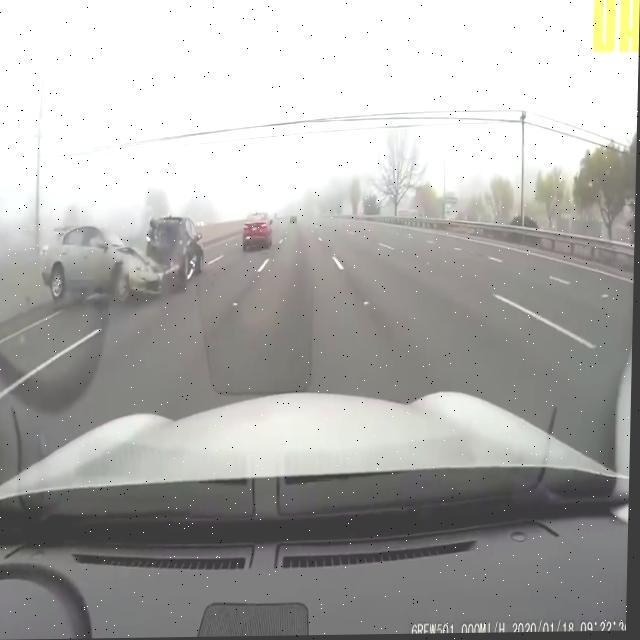multiple_accident: (58, 191, 205, 323)
